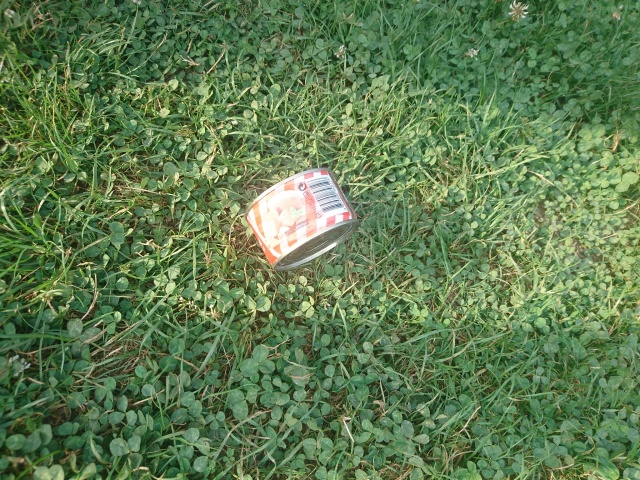Podravka Luncheon Meat 150g: (242, 165, 362, 274)
